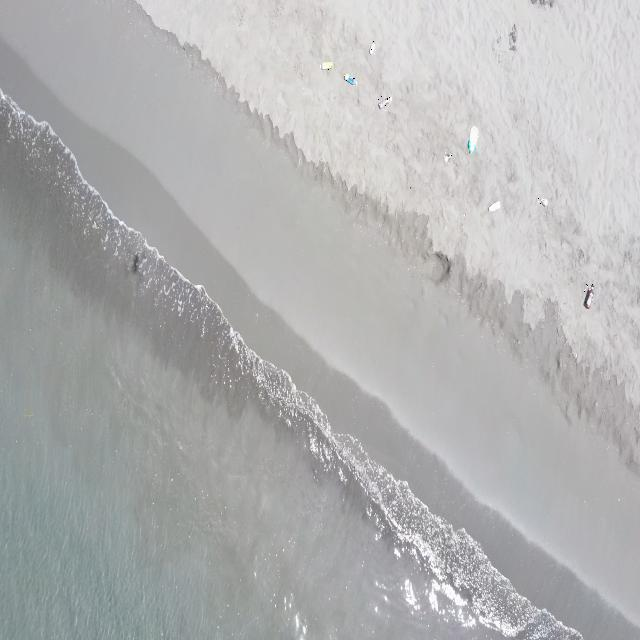Garbage: (467, 125, 477, 152), (583, 283, 592, 307), (378, 96, 391, 108), (487, 200, 500, 211), (344, 74, 355, 84), (537, 196, 547, 206), (368, 40, 375, 54), (320, 60, 331, 68), (444, 152, 452, 163)
